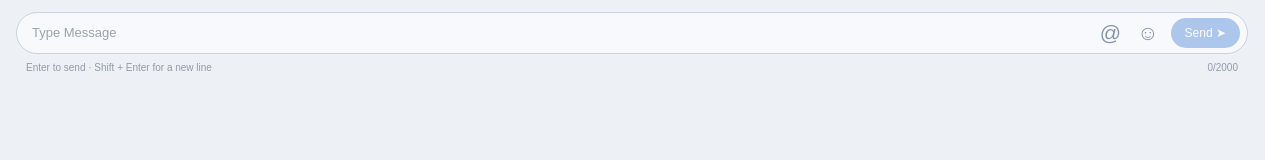
Test case: Chat composer › filters typed mentions and supports keyboard selection
Step 1. Type "@de" into the text box labelled "Message" → {"x": 560, "y": 33}, box [32,19,1088,47]
Then press Enter
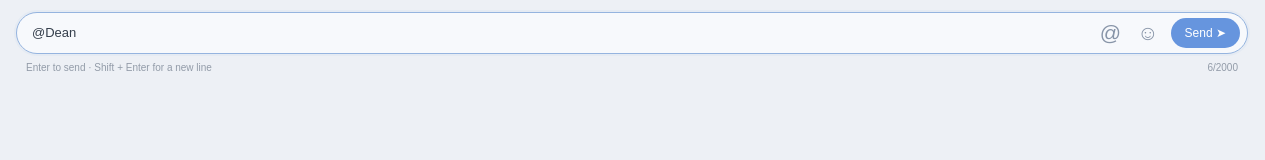
Check: the text box named "Message" holds "@Dean ", box [32,19,1088,47]
